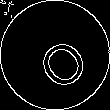O_NW: (22, 22, 88, 88)
